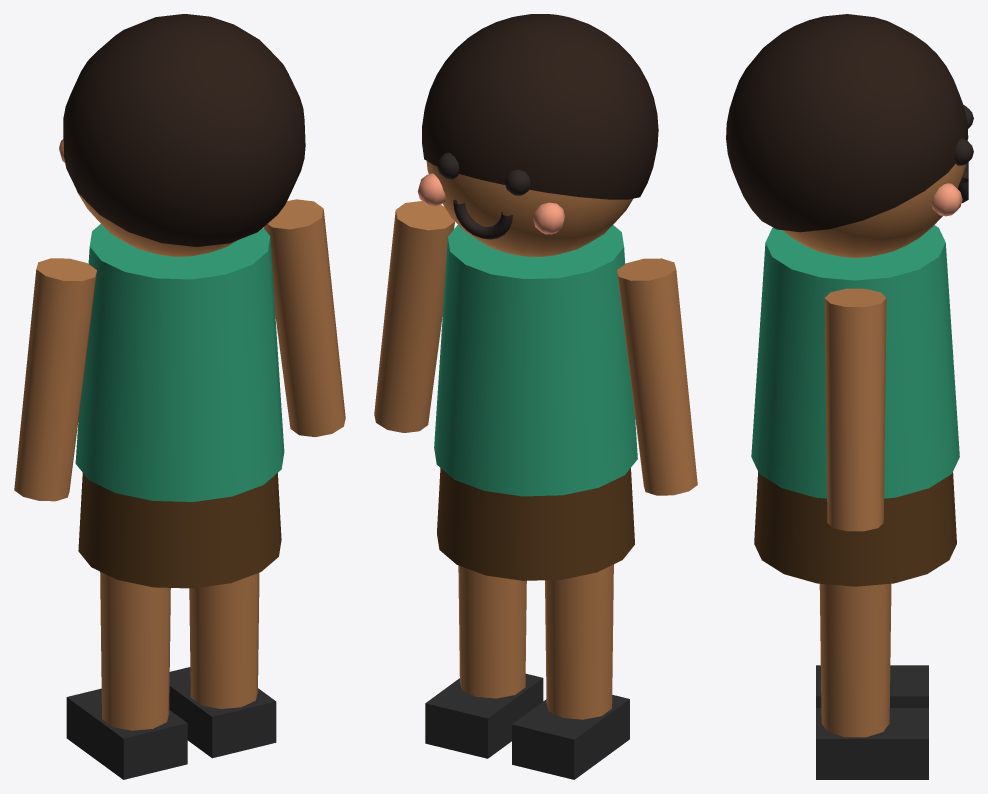
File: person_2fa37a.fbx
The picture shows the model from 3 angles, left to right: view 1: azimuth 30°, elevation 25°; view 2: azimuth 150°, elevation 25°; view 3: azimuth 270°, elevation 25°; orthographic projection. The views are drawn at different scales.
Visible parts, largest first — view 1: M__person_2fa37a-body, M__person_2fa37a-armL, M__person_2fa37a-armR, M__person_2fa37a-shinL, M__person_2fa37a-shinR, M__person_2fa37a-legL, M__person_2fa37a-legR; view 2: M__person_2fa37a-body, M__person_2fa37a-armL, M__person_2fa37a-armR, M__person_2fa37a-shinL, M__person_2fa37a-shinR, M__person_2fa37a-legL, M__person_2fa37a-legR; view 3: M__person_2fa37a-body, M__person_2fa37a-armR, M__person_2fa37a-shinR, M__person_2fa37a-legR, M__person_2fa37a-shinL.
Part boxes in pixels (x1,y1,x2,y2): M__person_2fa37a-body: [59, 14, 305, 588]; M__person_2fa37a-armL: [14, 258, 96, 501]; M__person_2fa37a-armR: [263, 199, 345, 436]; M__person_2fa37a-shinL: [66, 621, 187, 779]; M__person_2fa37a-shinR: [169, 600, 276, 758]; M__person_2fa37a-legL: [100, 571, 170, 638]; M__person_2fa37a-legR: [189, 573, 259, 616]; M__person_2fa37a-body: [417, 14, 658, 580]; M__person_2fa37a-armL: [617, 258, 697, 495]; M__person_2fa37a-armR: [374, 201, 454, 432]; M__person_2fa37a-shinL: [512, 613, 629, 779]; M__person_2fa37a-shinR: [425, 591, 543, 758]; M__person_2fa37a-legL: [545, 564, 613, 629]; M__person_2fa37a-legR: [458, 565, 526, 608]; M__person_2fa37a-body: [726, 14, 973, 586]; M__person_2fa37a-armR: [824, 288, 886, 531]; M__person_2fa37a-shinR: [816, 632, 928, 779]; M__person_2fa37a-legR: [819, 583, 891, 645]; M__person_2fa37a-shinL: [816, 665, 928, 707].
Bounding box in the file's own units: 0.6547 × 1.4 × 0.4399.
